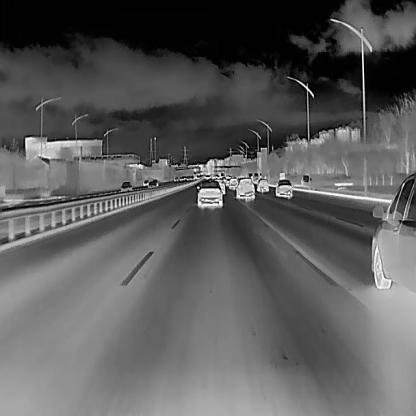car: (369, 171, 415, 293), (194, 179, 224, 206), (234, 178, 254, 201), (274, 178, 292, 198), (212, 178, 225, 195), (118, 180, 132, 194), (256, 177, 268, 192), (300, 174, 312, 186), (228, 178, 238, 190), (140, 178, 149, 186), (147, 180, 156, 188), (224, 177, 232, 186), (172, 174, 178, 182)
